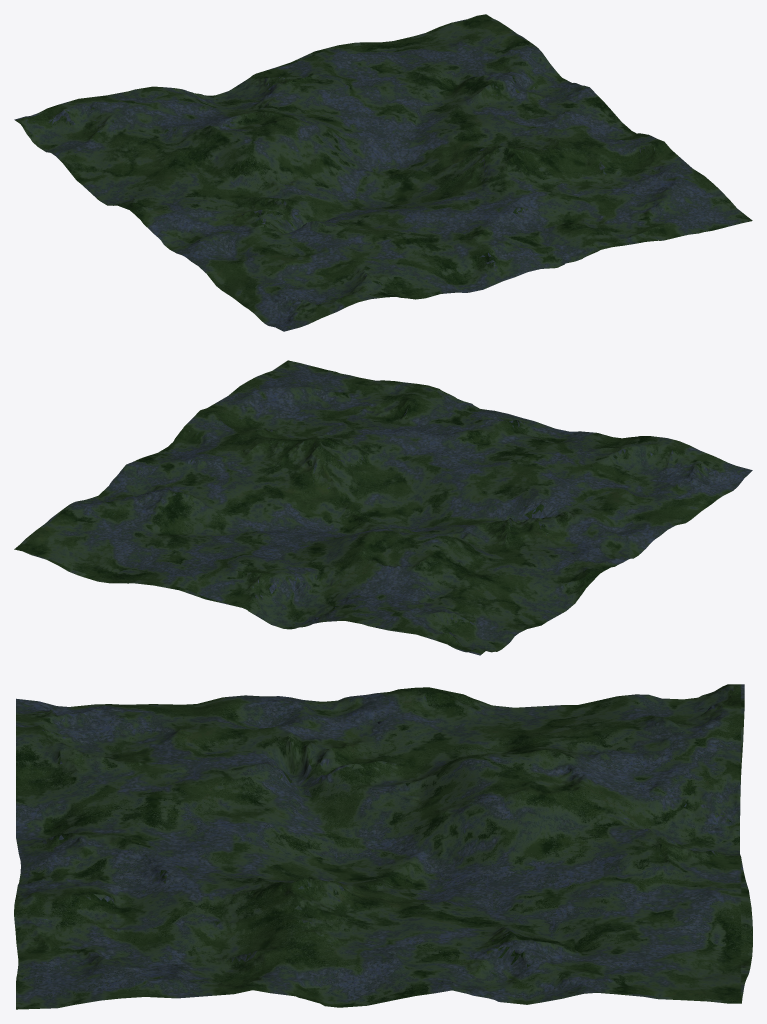
File: Landscape.glb
3 views of the same model, one above another, from view 1: azimuth 30°, elevation 25°; view 2: azimuth 150°, elevation 25°; view 3: azimuth 270°, elevation 25° (orthographic). The views are drawn at different scales.
Parts seen in each view (by area): view 1: ALPHS Noise Mountains; view 2: ALPHS Noise Mountains; view 3: ALPHS Noise Mountains.
Part boxes in pixels (x1,y1,x2,y2): ALPHS Noise Mountains: [14, 14, 752, 331]; ALPHS Noise Mountains: [14, 360, 752, 655]; ALPHS Noise Mountains: [14, 684, 752, 1009].
Size of the model in its own units: 8.51 by 0.7189 by 8.59.
Materials: 1 (1 with a texture image).
